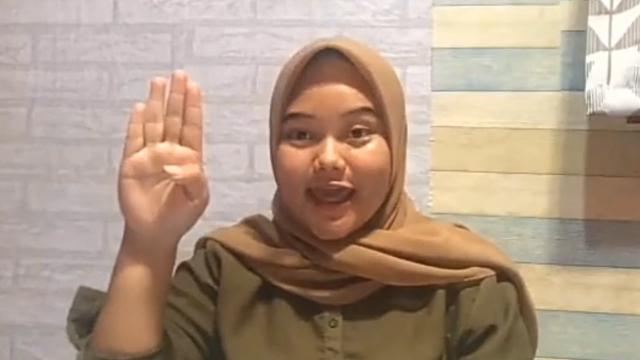B: (120, 68, 210, 242)
